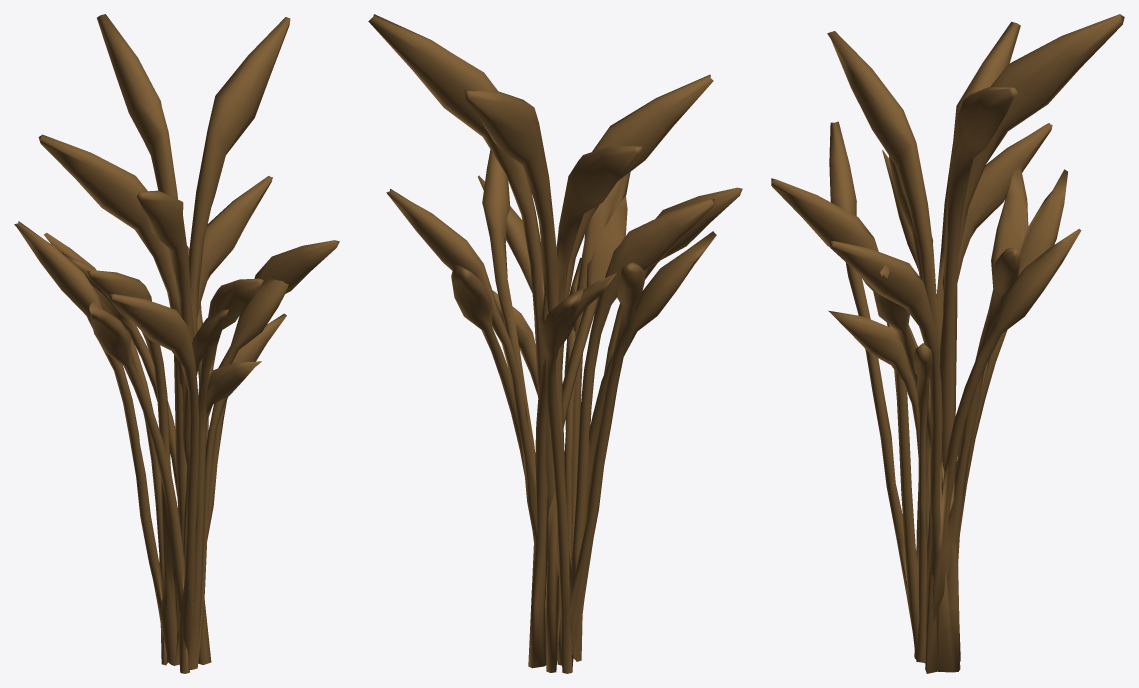
The model's file is wheat.gltf.
3 renders of one model, left to right at view 1: azimuth 30°, elevation 25°; view 2: azimuth 150°, elevation 25°; view 3: azimuth 270°, elevation 25°, orthographic. The views are drawn at different scales.
Visible parts, largest first — view 1: wheat; view 2: wheat; view 3: wheat.
Boxes of the visible parts, x1,y1,x2,y2 form: wheat: (14,14,339,673); wheat: (368,14,742,673); wheat: (771,14,1124,673).
Size of the model in its own units: 0.9529 by 2.06 by 1.02.
1 material, 1 textured.
